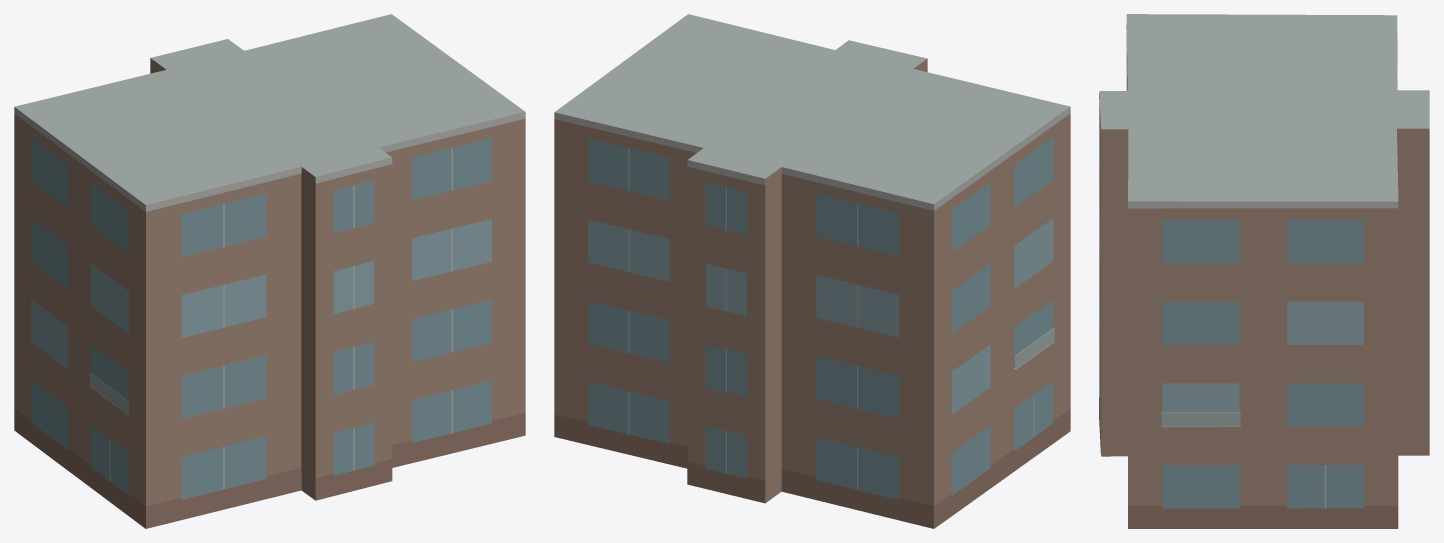
Rendered from survey-upis-32752504.glb.
3 views of the same model, side by side, from view 1: azimuth 30°, elevation 25°; view 2: azimuth 150°, elevation 25°; view 3: azimuth 270°, elevation 25° (orthographic).
Visible parts, largest first — view 1: survey-upis-32752504.tmp; view 2: survey-upis-32752504.tmp; view 3: survey-upis-32752504.tmp.
Part boxes in pixels (left/top/right/bottom): survey-upis-32752504.tmp: left=14, top=14, right=525, bottom=528; survey-upis-32752504.tmp: left=554, top=14, right=1070, bottom=528; survey-upis-32752504.tmp: left=1099, top=14, right=1429, bottom=528.
Size of the model in its own units: 14.57 by 11.79 by 10.81.
